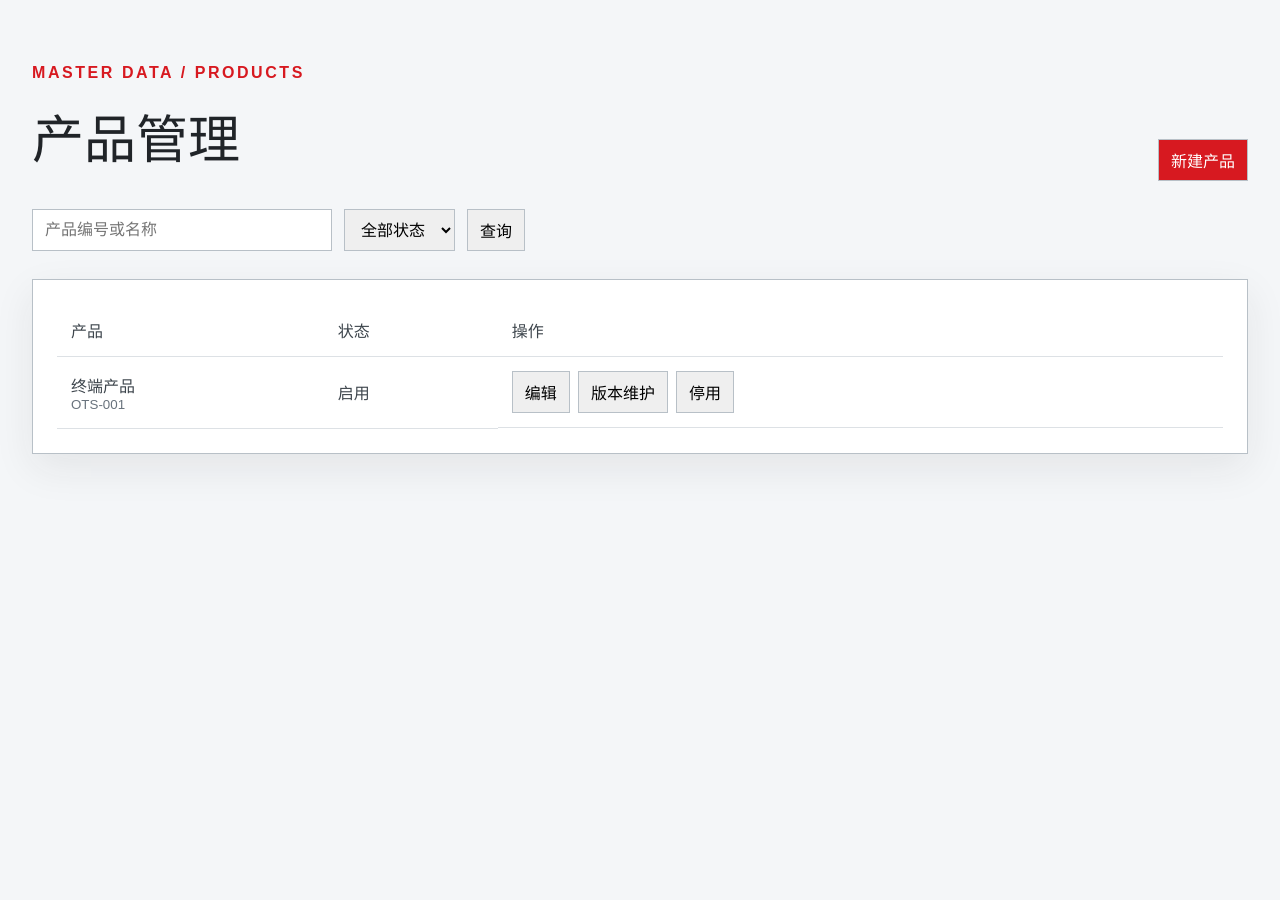
Scenario: ProductAdminPage › creates a second version from version maintenance
The width and height of the screenshot is (1280, 900).
Click the button with aria-label "维护终端产品版本" at (623, 392), box [578,371,668,413]
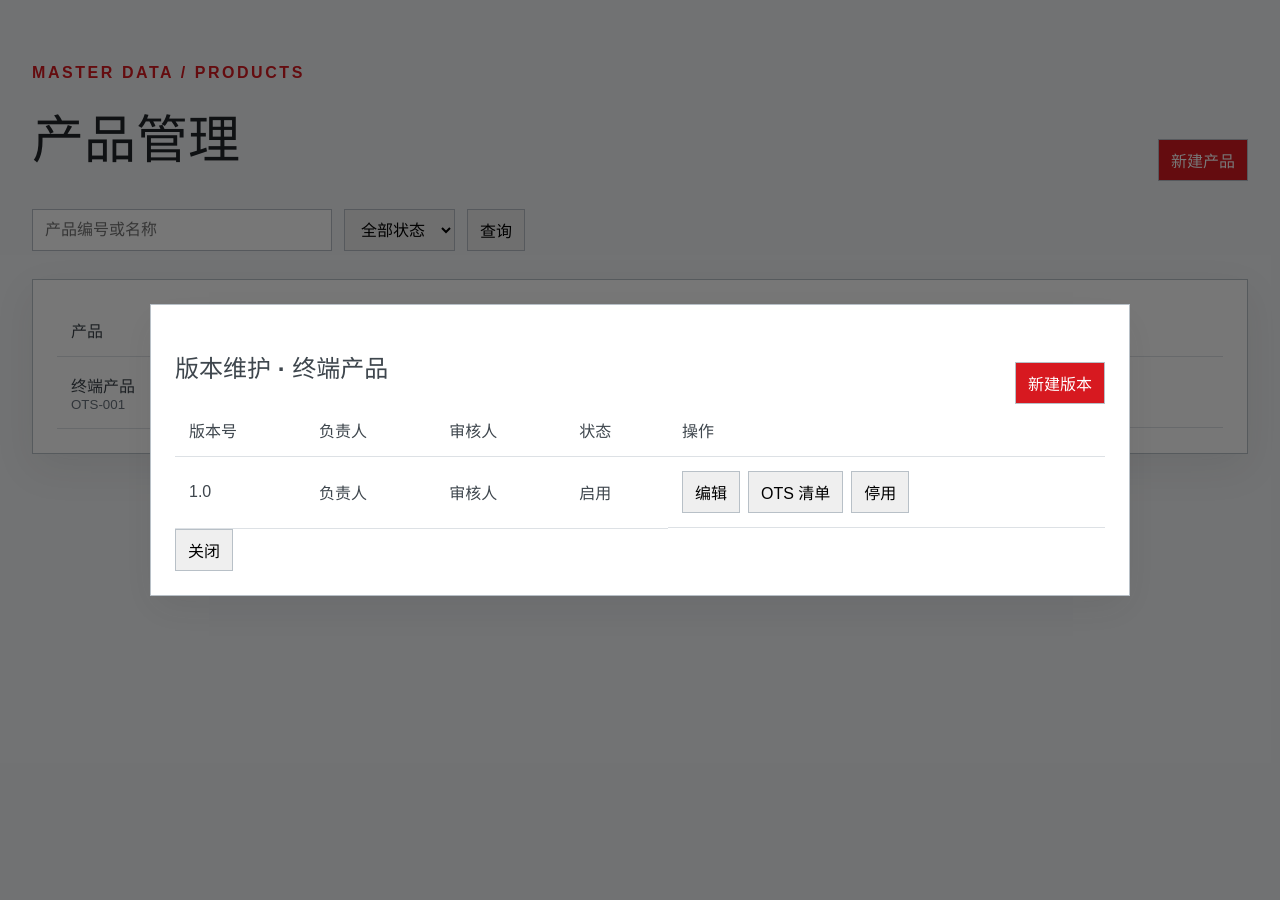
Click the button "新建版本" at (1060, 383), box [1015,362,1105,404]
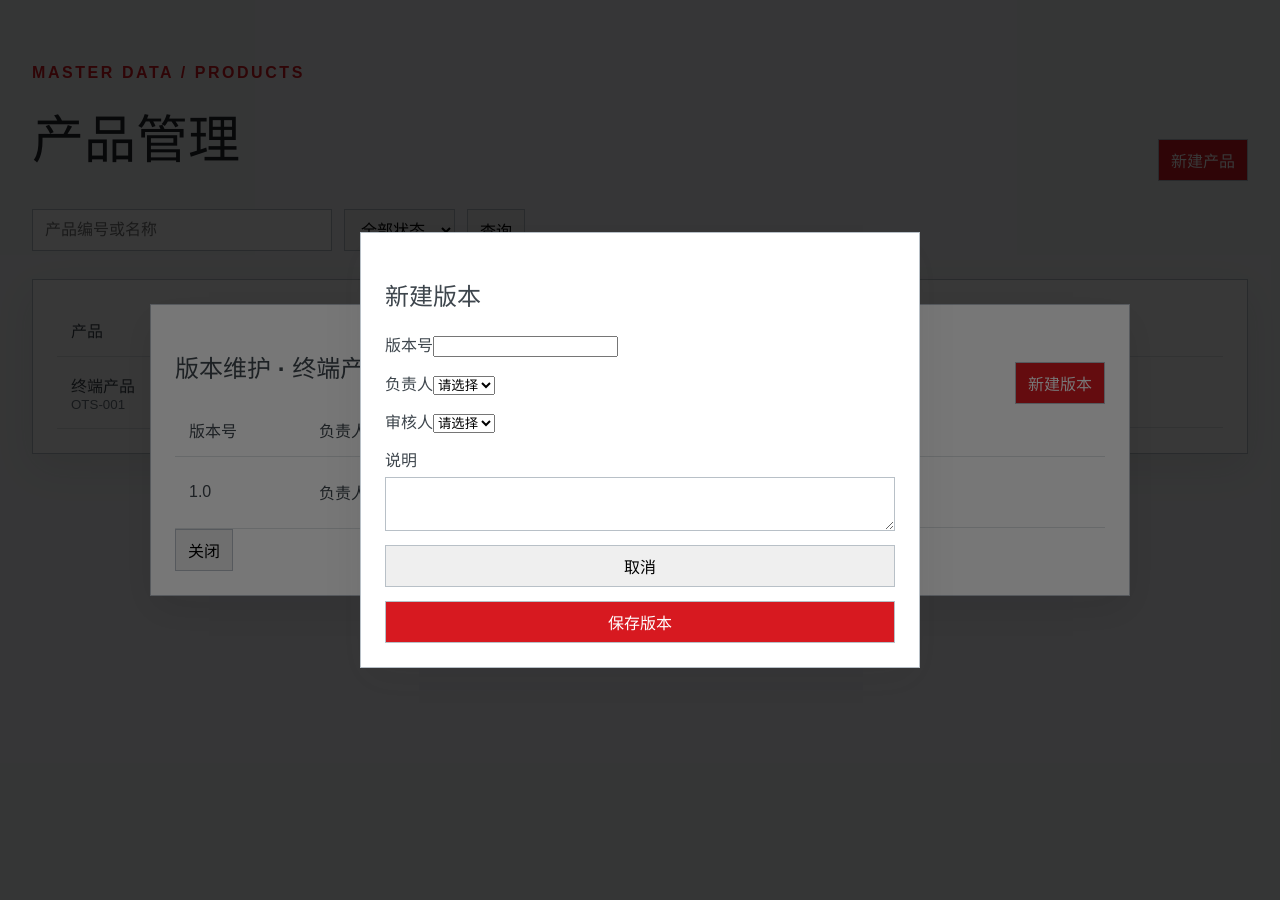
Type "2.0" into the field named "version_no" at (526, 346), box [433,336,618,357]
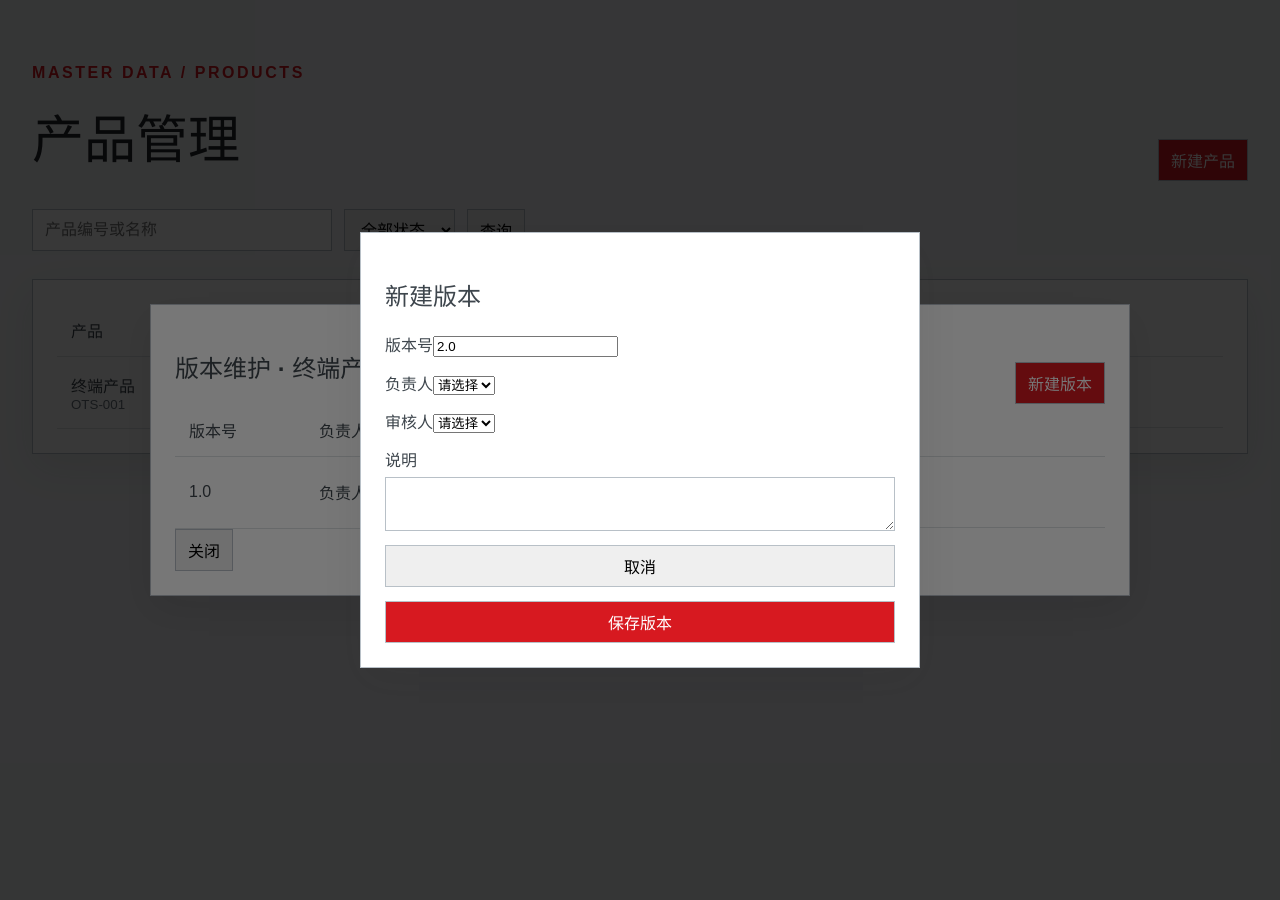
Select "负责人" in the dropdown named "owner_id" at (464, 385), box [433,376,495,395]
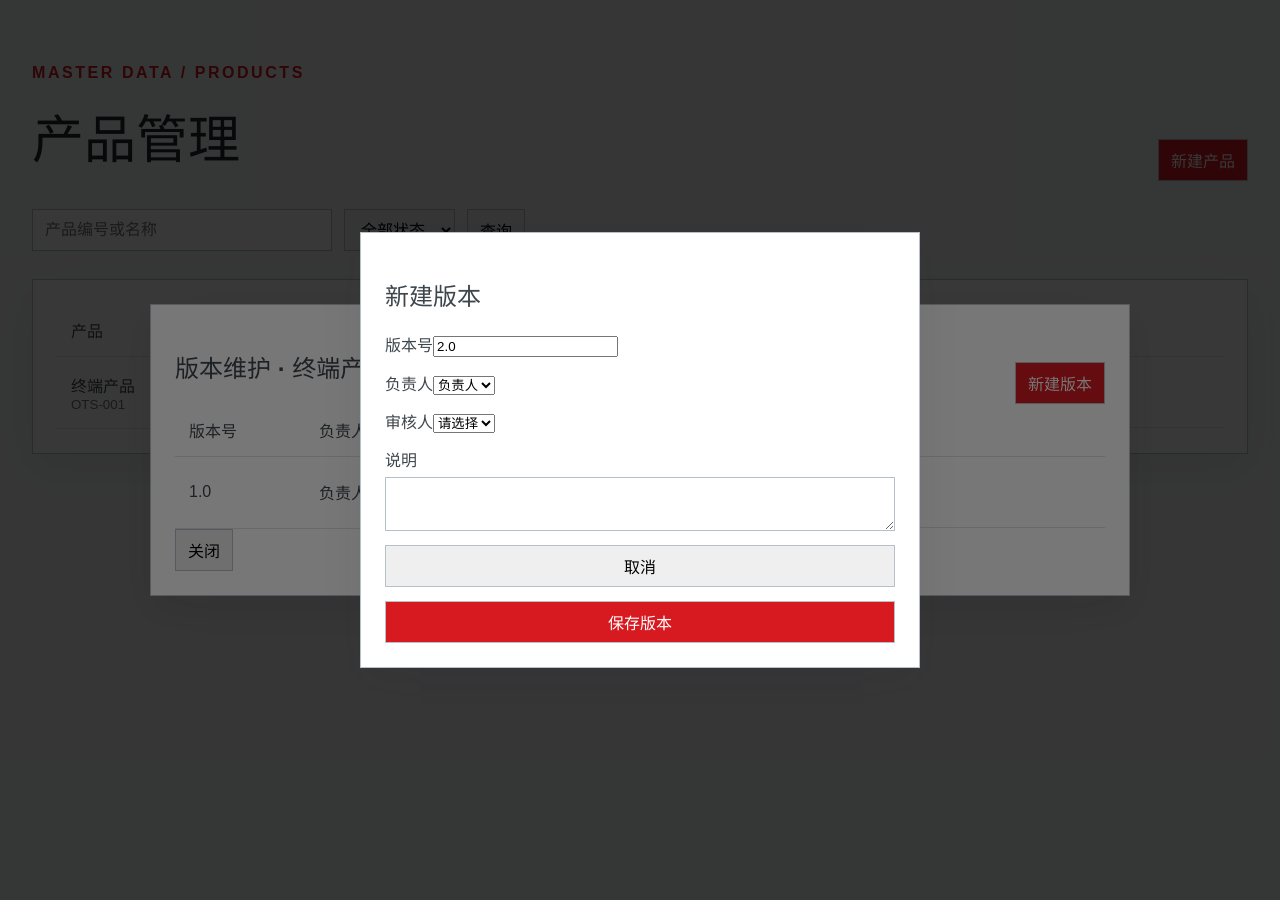
Select "审核人" in the dropdown named "reviewer_id" at (464, 423), box [433,414,495,433]
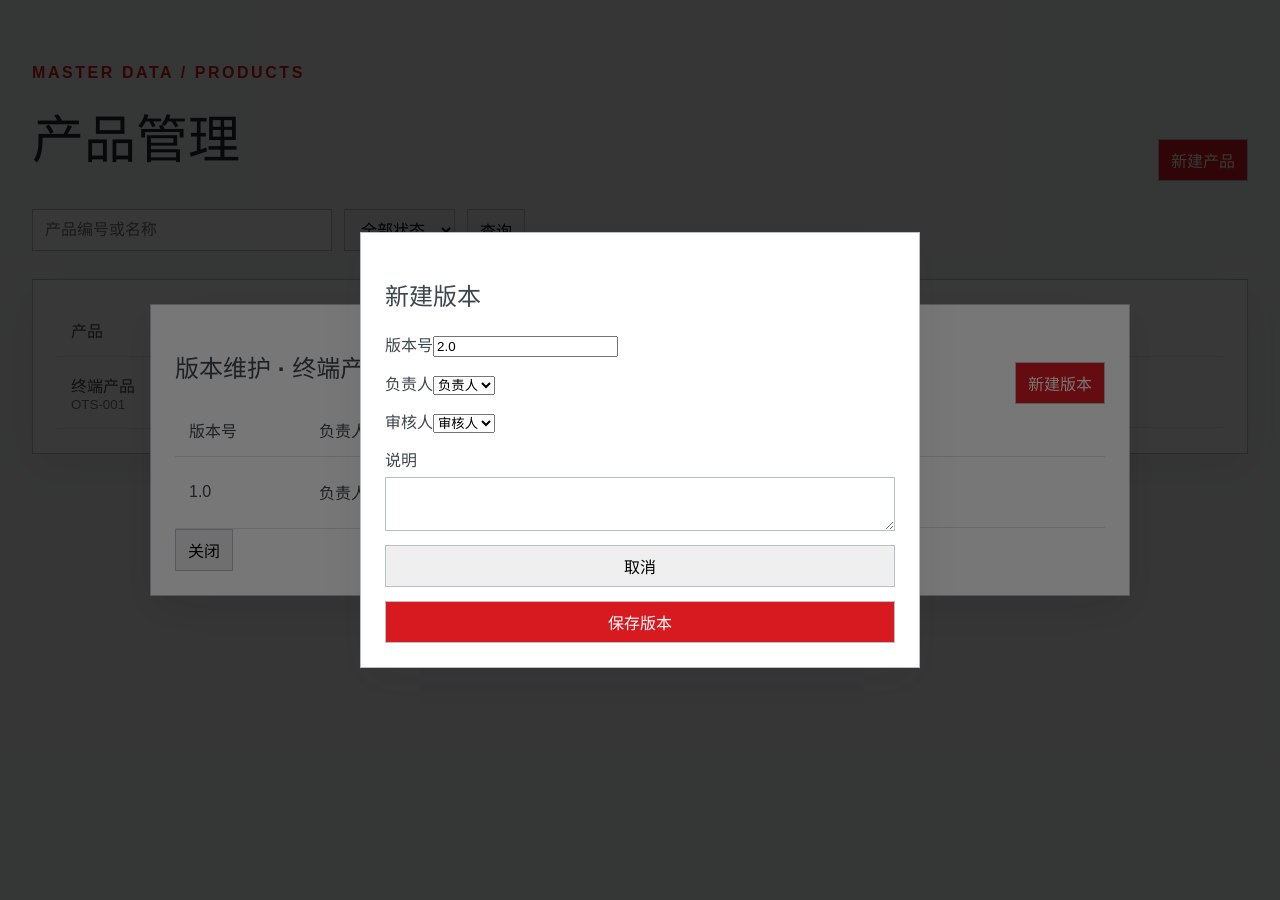
Submit the form "版本号 负责人 审核人 说明 取消 保存版本", box [385,332,895,643]
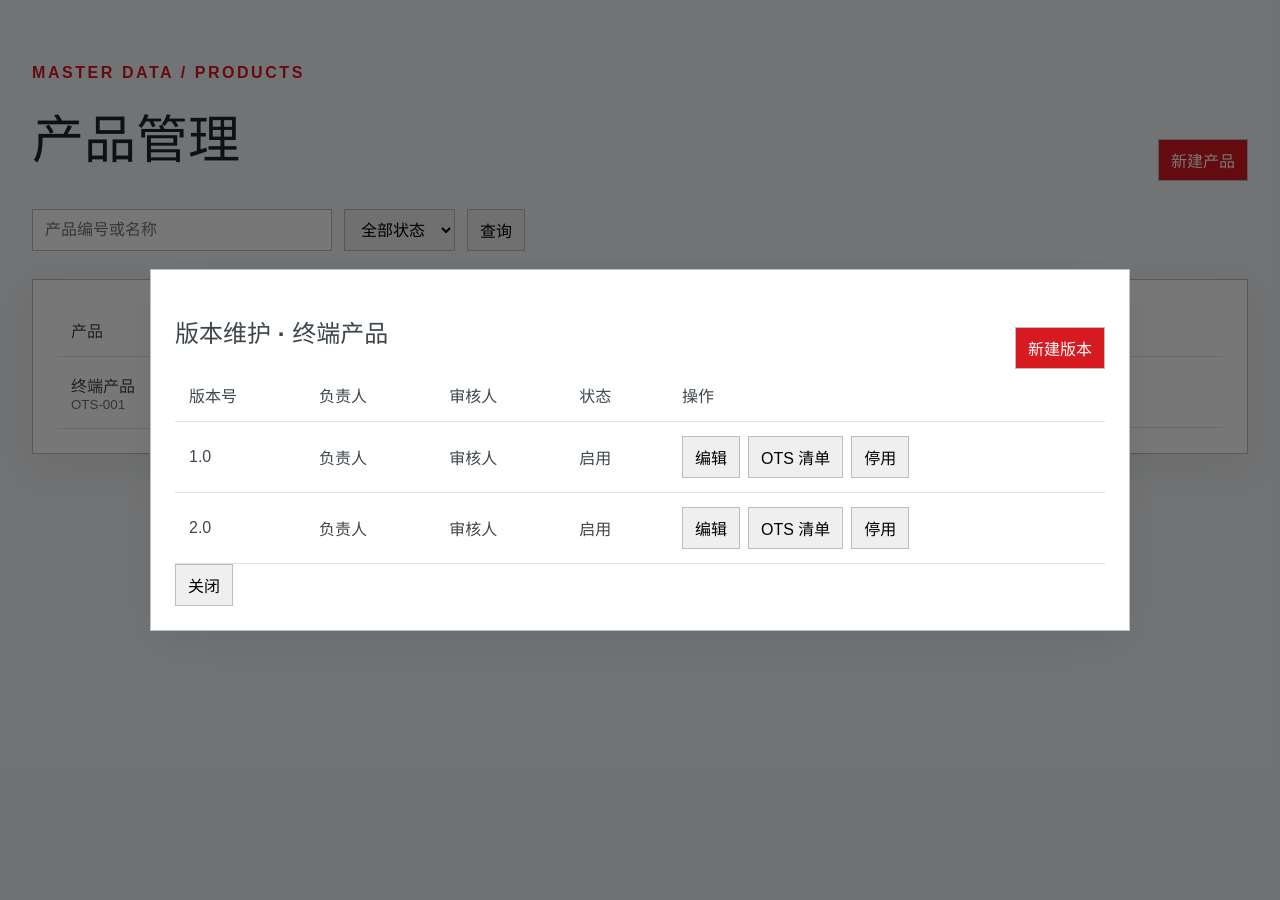
expect the text "2.0" is shown: met, box [175,493,305,564]
